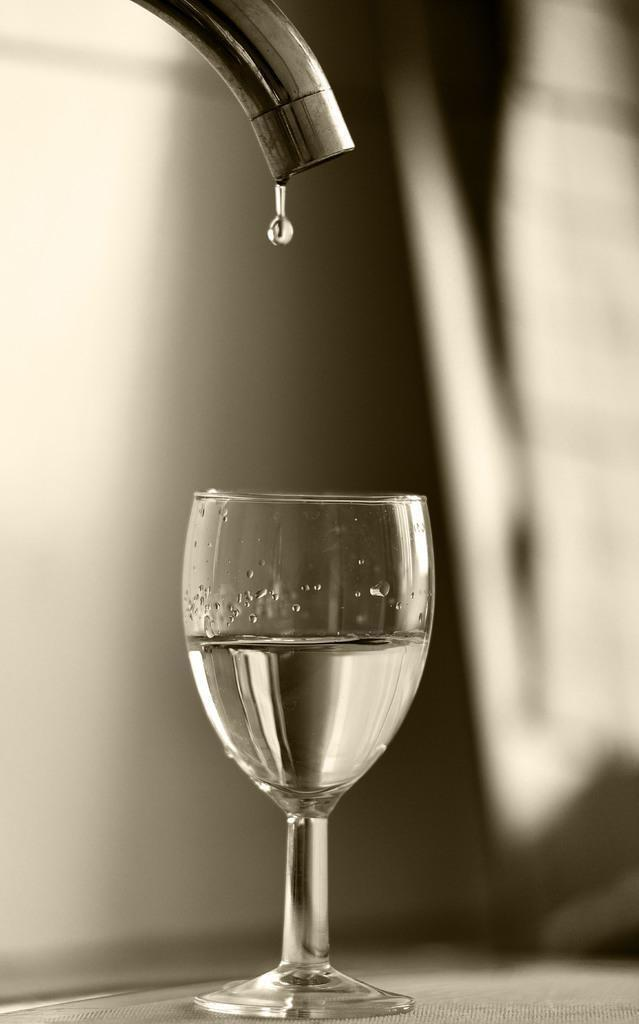glass-wine: (177, 483, 443, 1023)
